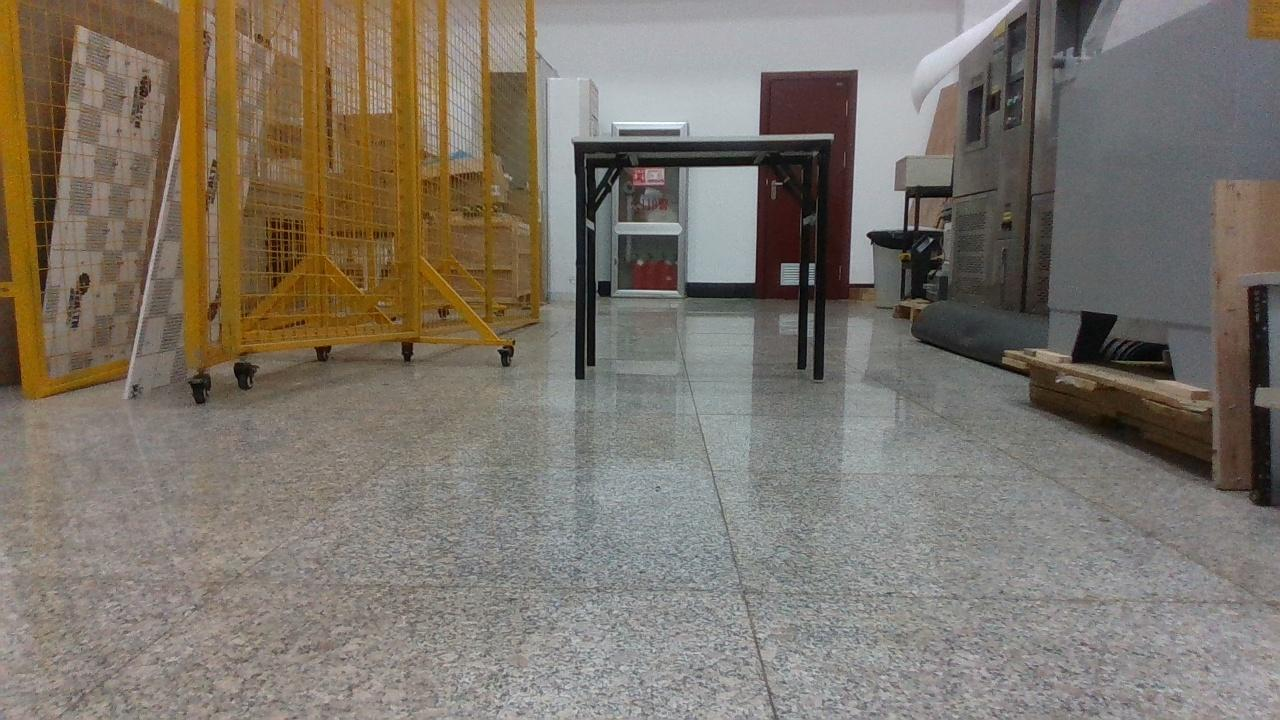table: (571, 134, 834, 380)
